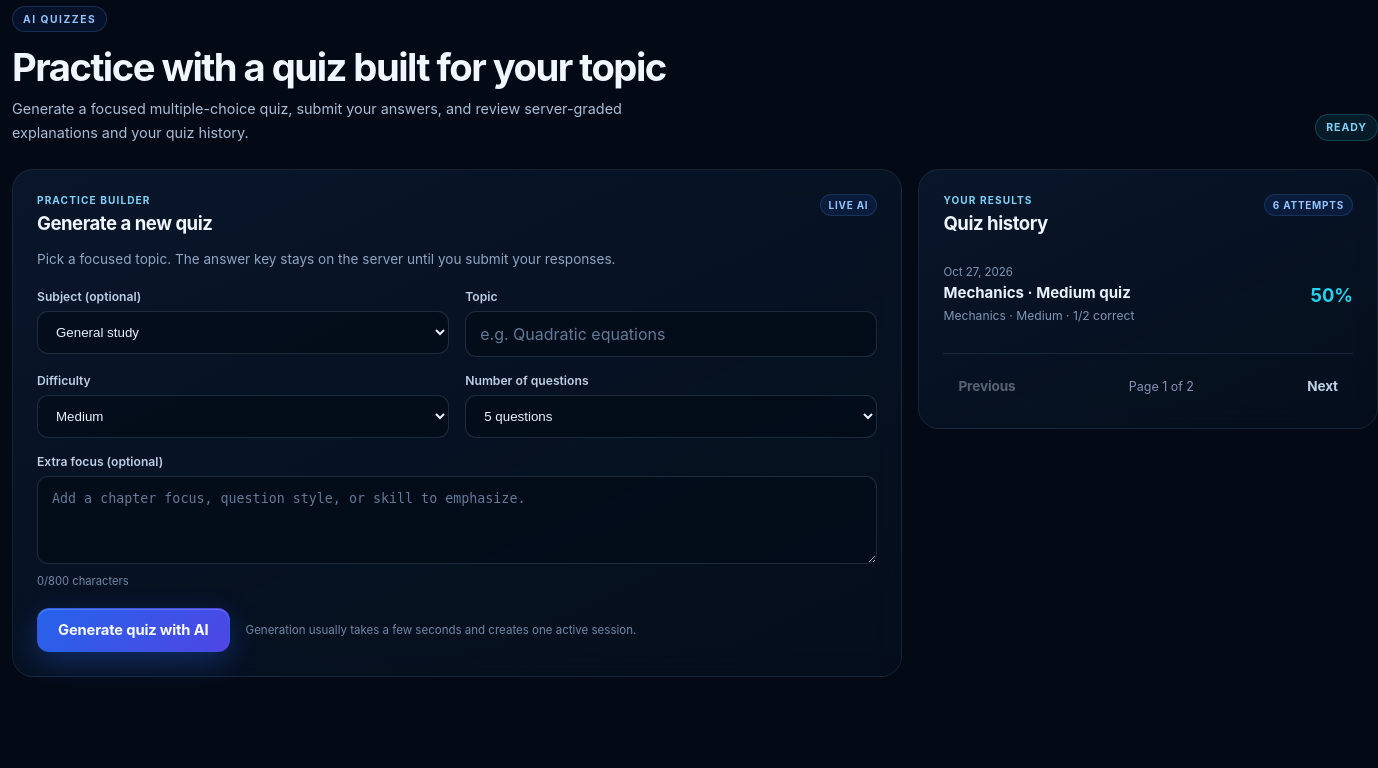
quiz page › renders paginated history from the API
Expected: the heading "Mechanics · Medium quiz" is shown, [943,283,1131,302]
Expected: the text "Page 1 of 2" is shown, [1129,379,1194,394]
Click the button "Next". click: point(1323, 386)
box: [1292,368,1353,404]
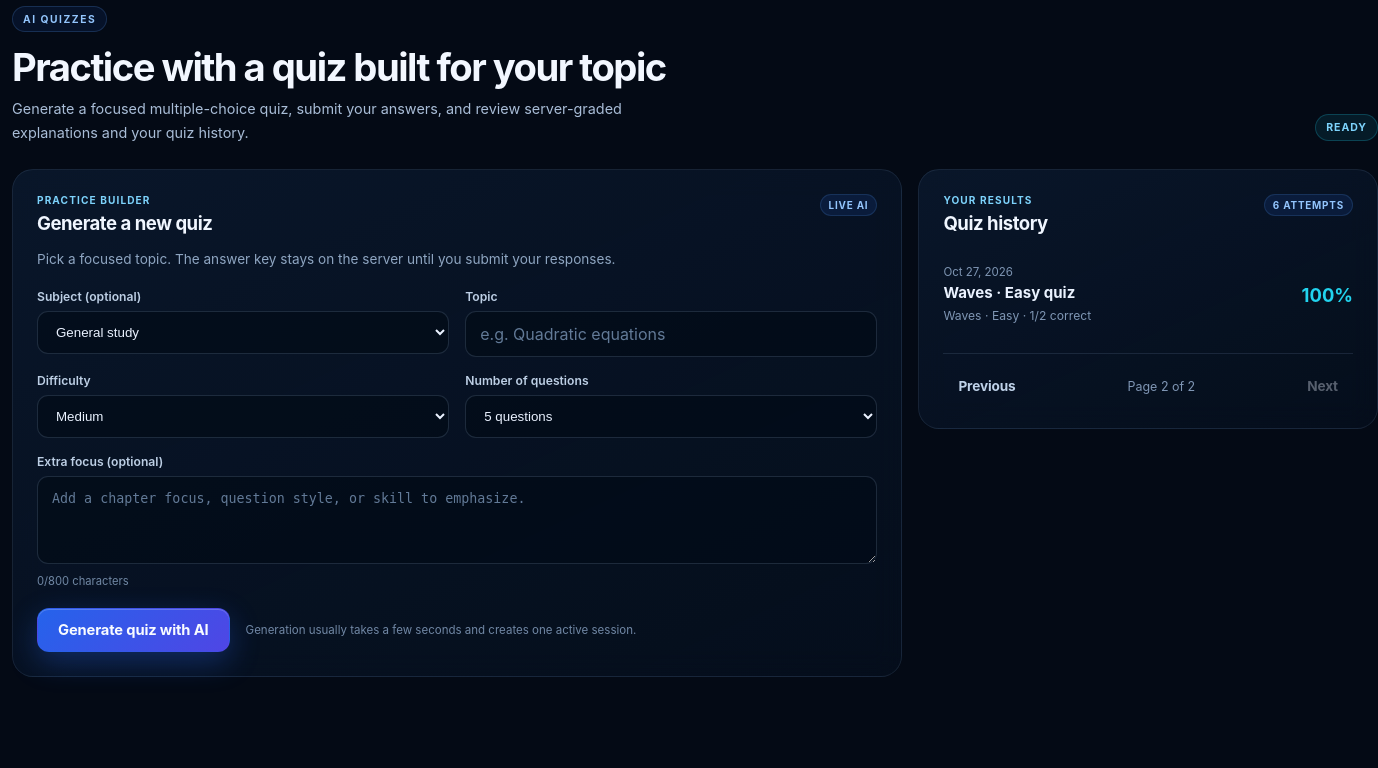
Expected: the heading "Waves · Easy quiz" is shown, [943,283,1075,302]
Expected: the text "Page 2 of 2" is shown, [1128,379,1195,394]
